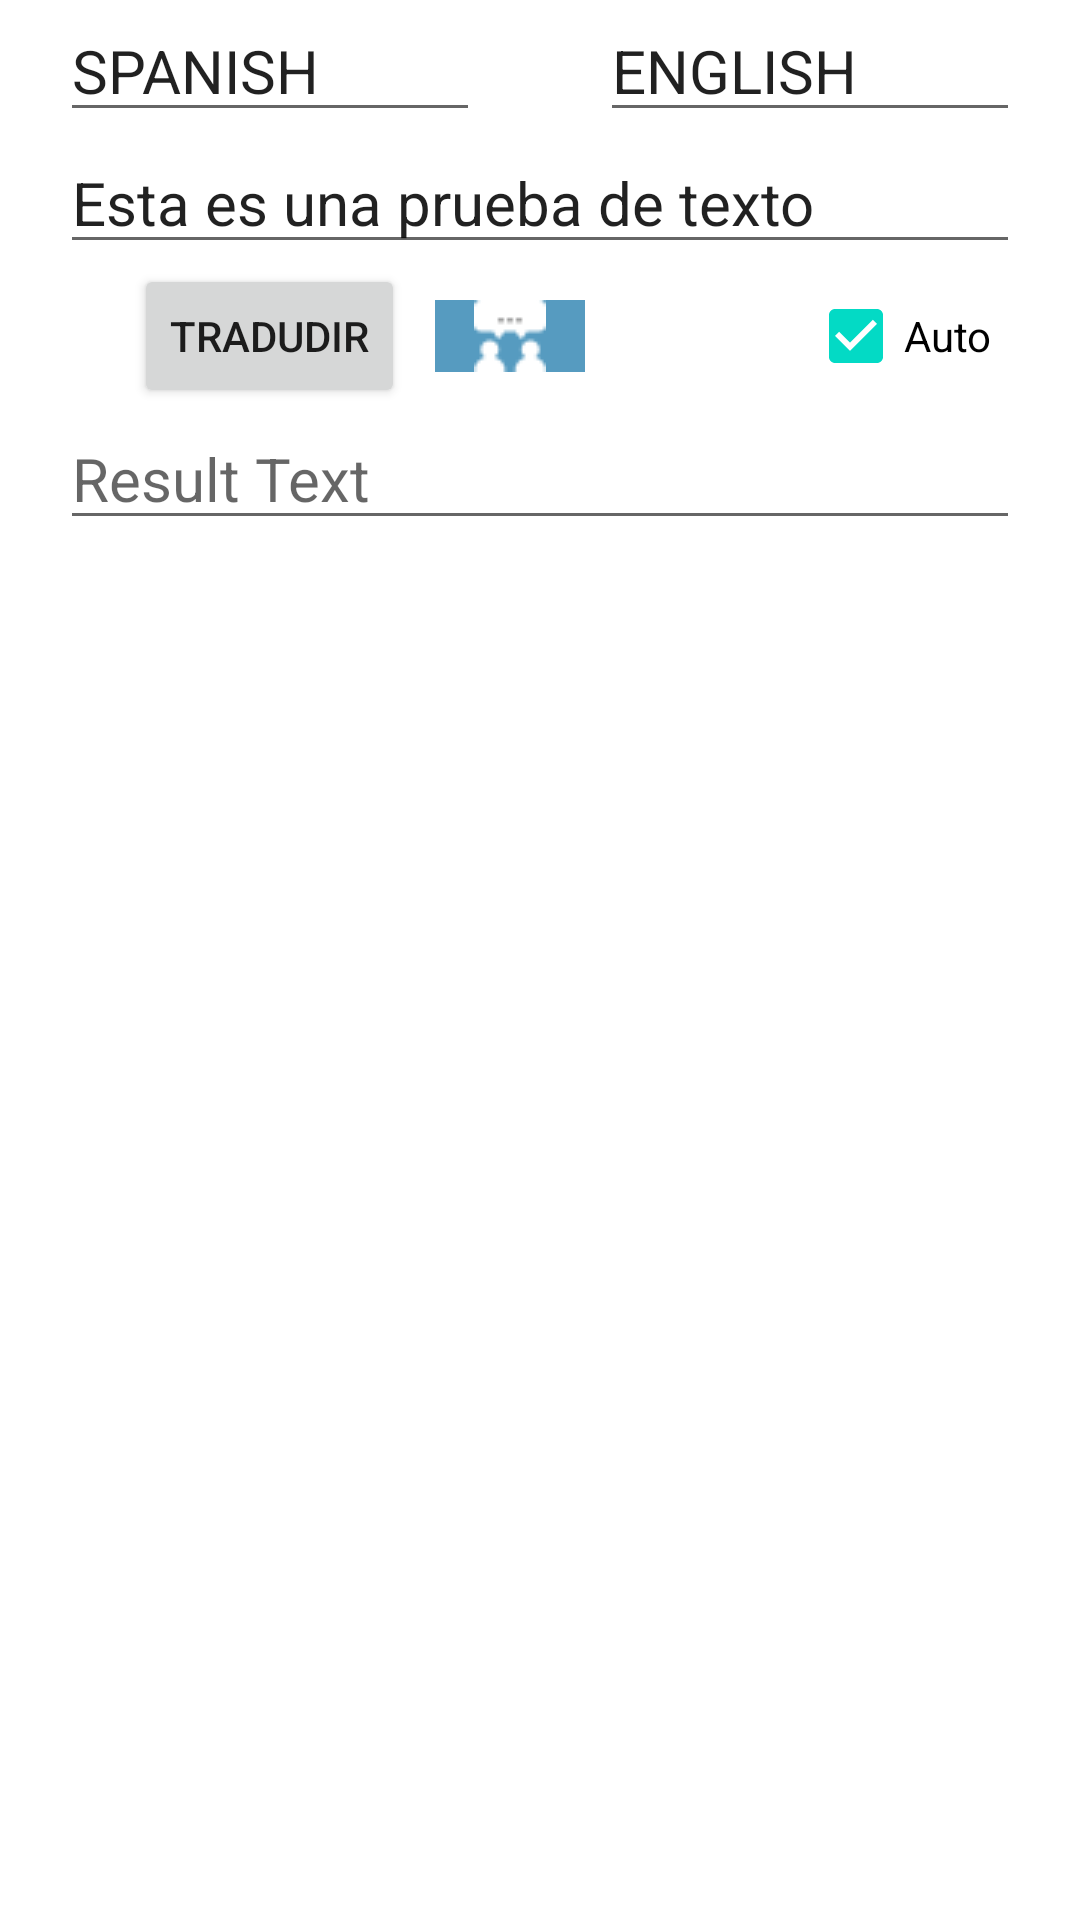

Icons on this 1080px x 1920px Android screen, each with the point to tap as (x=x, y=y):
conversacion: (x=510, y=336)
